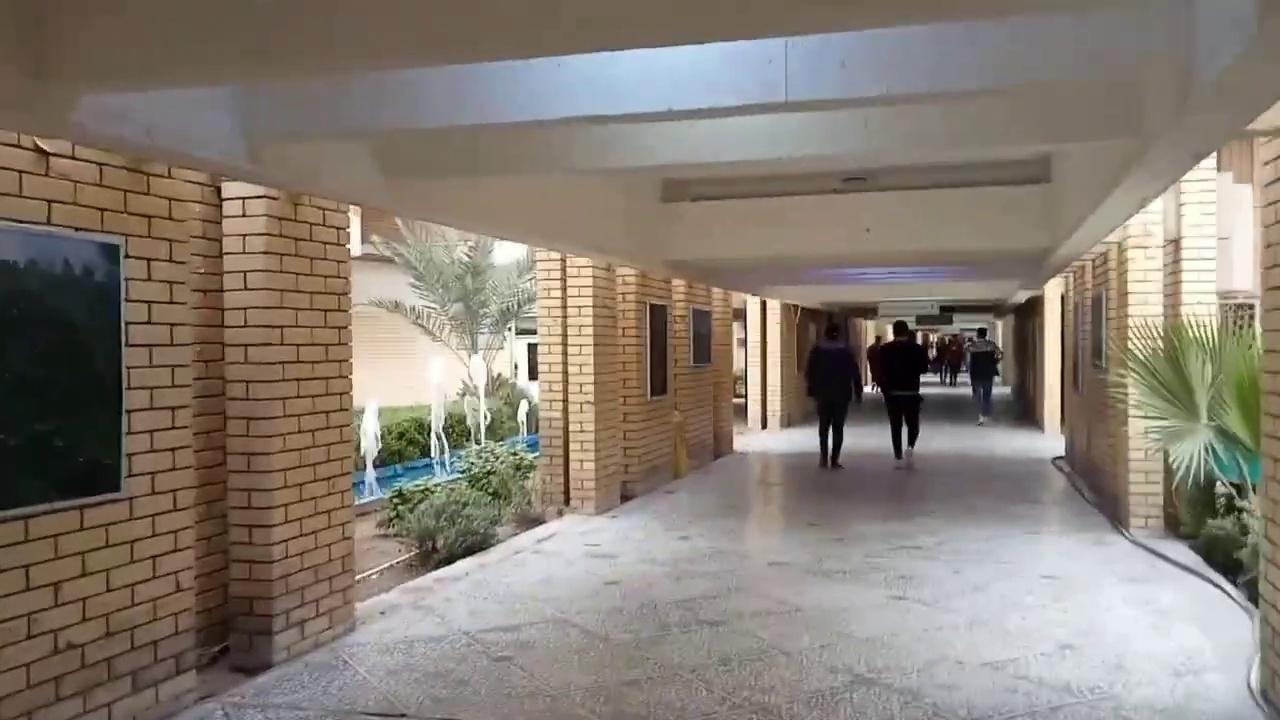fountain: (351, 381, 540, 508), (355, 398, 385, 499), (426, 382, 453, 478)
person: (803, 322, 863, 469), (876, 319, 929, 461), (966, 326, 1002, 426), (866, 334, 884, 392)
tree: (1103, 305, 1261, 605), (354, 215, 538, 448)
